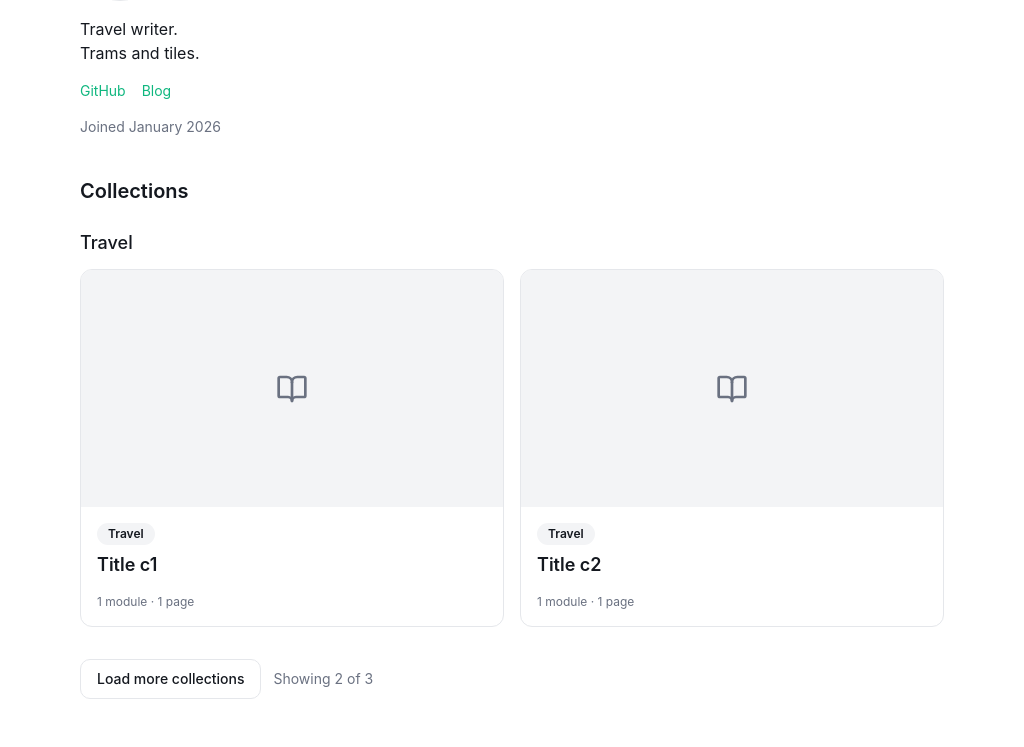
Scenario: CreatorProfile pagination › shows Load more only while there are more pages, with 'Showing N of M', and removes it after the last page
(page scrolled)
Expected: the text "Showing 2 of 3" is shown, [274, 669, 373, 689]
Click the button "Load more collections" at (171,679), box [80, 659, 262, 699]
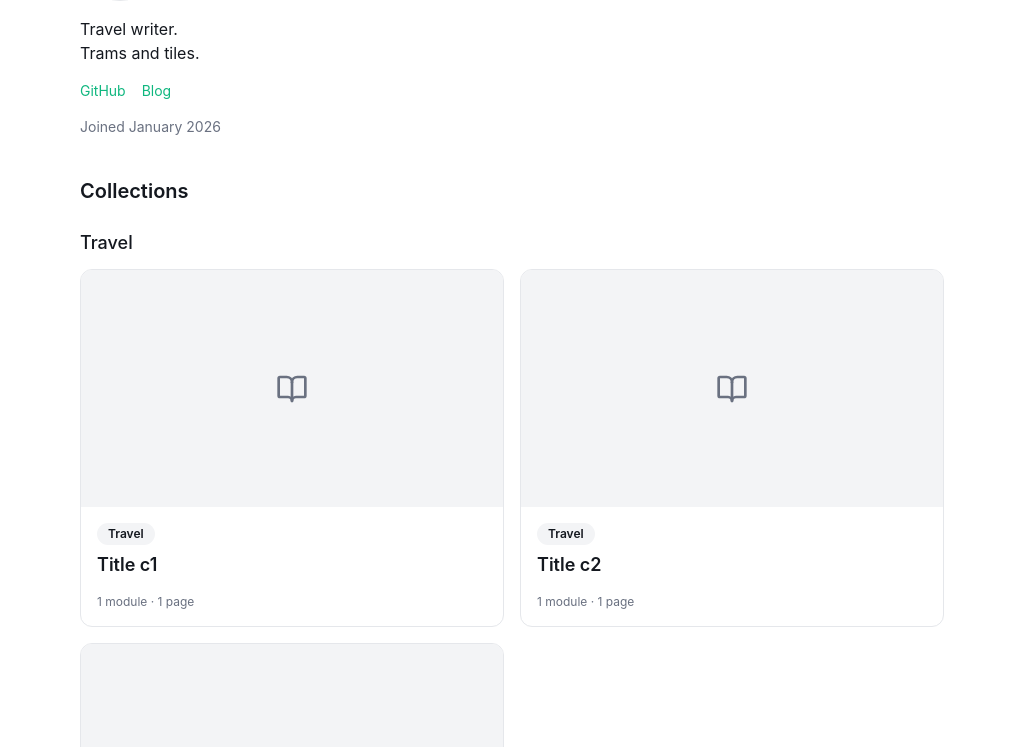
Now the button "Load more collections" is gone
Now the text "Showing 2 of 3" is gone
